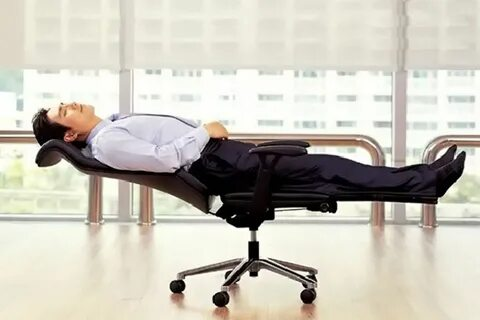sleep: (29, 103, 466, 200)
